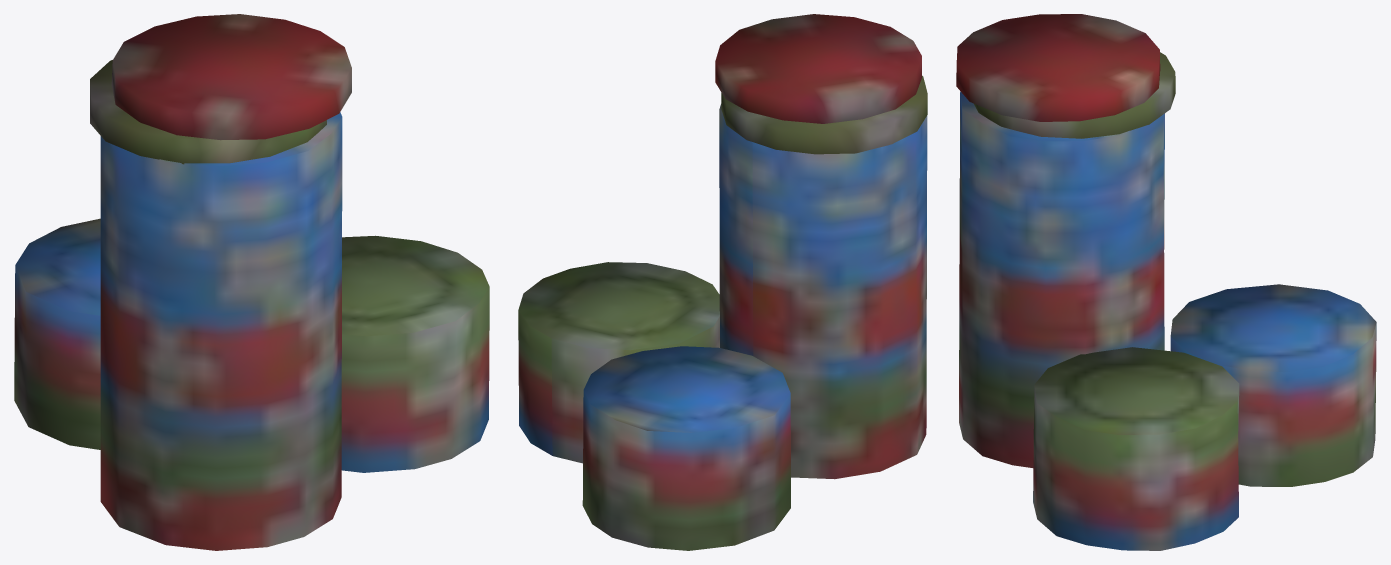
File: chipstack3.glb
3 renders of one model, left to right at view 1: azimuth 30°, elevation 25°; view 2: azimuth 150°, elevation 25°; view 3: azimuth 270°, elevation 25°, orthographic. The views are drawn at different scales.
Parts seen in each view (by area): view 1: ChipStack3; view 2: ChipStack3; view 3: ChipStack3.
Boxes of the visible parts, box(x1,y1,x2,y2) form: ChipStack3: box(14, 14, 489, 550); ChipStack3: box(518, 14, 927, 550); ChipStack3: box(956, 14, 1376, 550).
Size of the model in its own units: 0.0858 by 0.0885 by 0.0893.
Materials: 1 (1 with a texture image).
